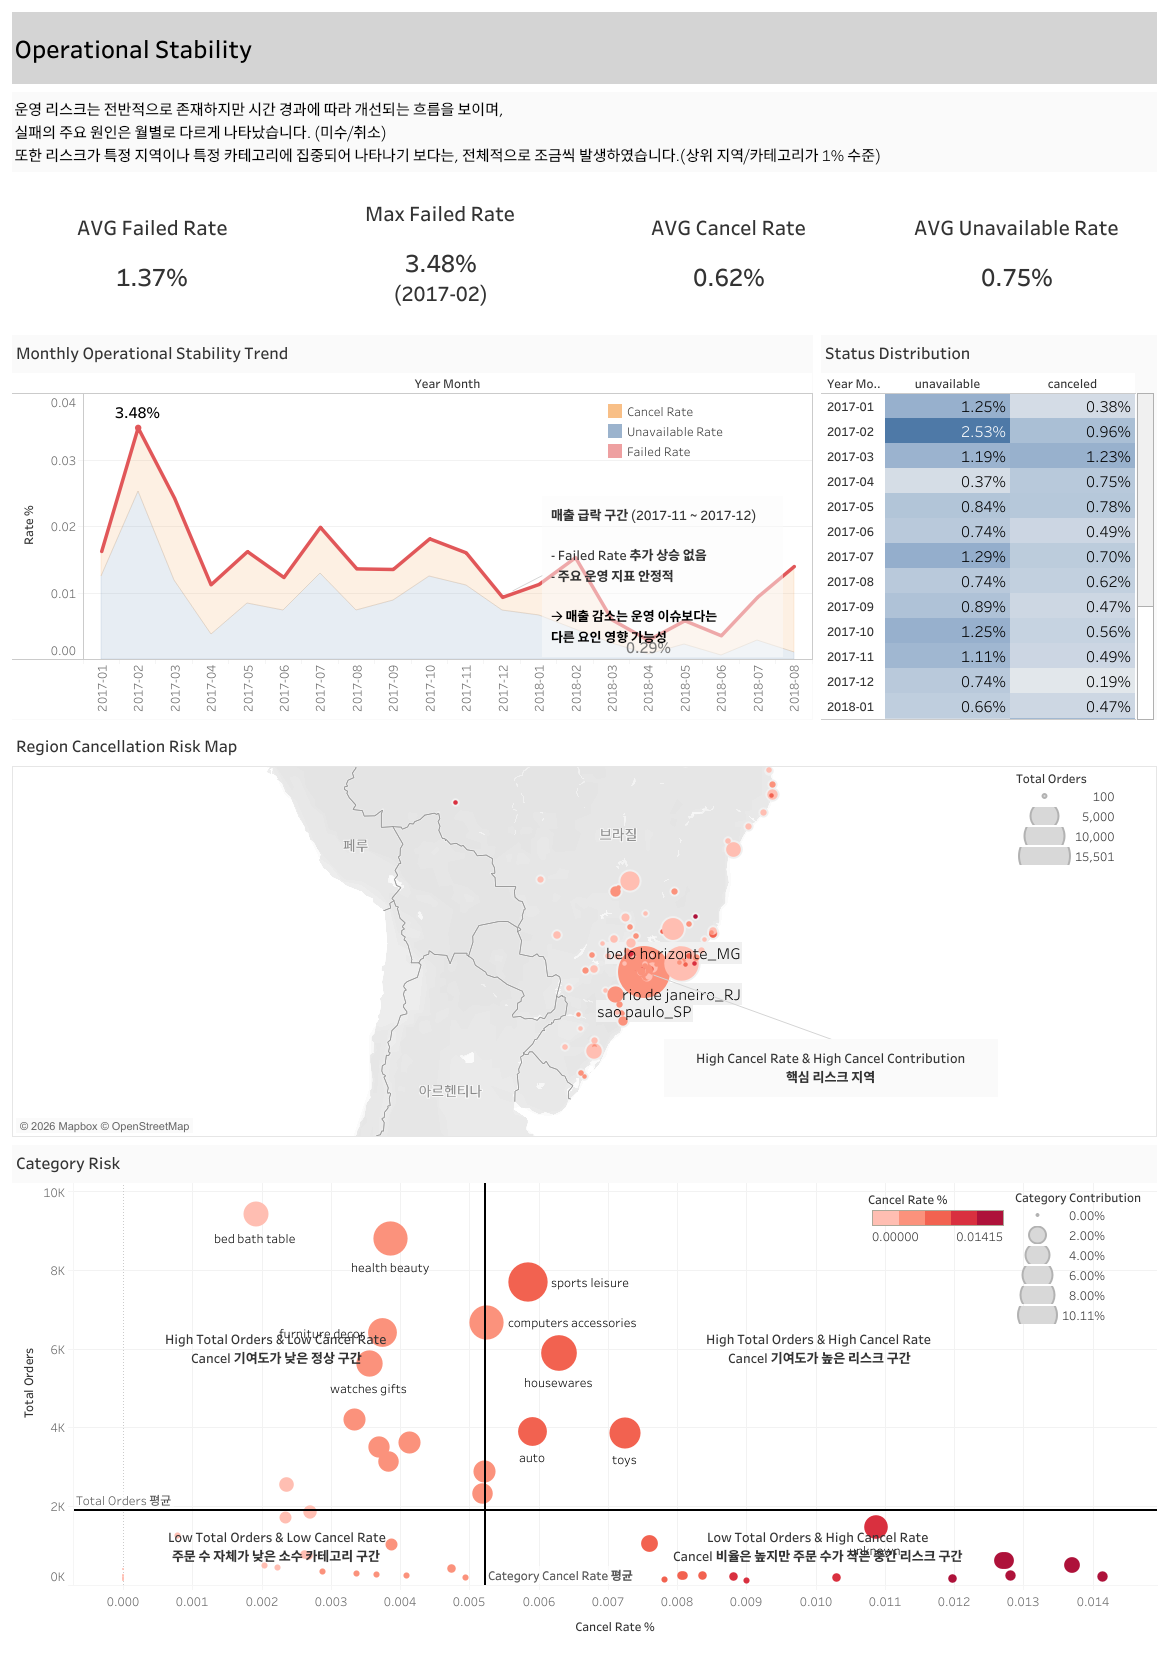

The dashboard page shown, as its layout file describes it:
{"tool":"tableau","page":{"name":"Operational Stability Dashboard","canvas":[1169,1654],"ordinal":3},"visuals":[{"type":"text","box":[8,8,1153,80]},{"type":"text","box":[8,88,1153,88]},{"type":"worksheet","title":"OS_KPI Avg Failed Rate","mark":"Automatic","box":[8,176,289,155]},{"type":"worksheet","title":"OS_KPI Max Failed Rate","mark":"Automatic","box":[297,176,288,155]},{"type":"worksheet","title":"OS_KPI Avg Cancel Rate","mark":"Automatic","box":[585,176,288,155]},{"type":"worksheet","title":"OS_KPI Avg Unavailabled Rate","mark":"Automatic","box":[873,176,288,155]},{"type":"worksheet","title":"OS_Monthly Operational Stability Trend","mark":"Line","rows":["failed_rate"],"cols":["year_month"],"box":[8,331,808.9,393]},{"type":"worksheet","title":"OS_Status Distribution","mark":"Square","rows":["year_month"],"cols":["order_status"],"box":[816.9,331,344,393]},{"type":"legend","title":"OS_Monthly Operational Stability Trend","param":"[federated.1sejpa51rv689l165vqx200g2f1r].[:Measure Names]","box":[605,401,140,78]},{"type":"worksheet","title":"OS_Region Cancellation Risk Map","mark":"Automatic","box":[8,724,1153,417]},{"type":"legend","title":"OS_Region Cancellation Risk Map","param":"[federated.1sejpa51rv689l165vqx200g2f1r].[sum:total_orders:qk]","box":[1015,767,140,98]},{"type":"worksheet","title":"OS_Category Risk (Cancel Rate & Contribution)","mark":"Circle","rows":["total_orders"],"cols":["Calculation_364228669883781125"],"box":[8,1141,1153,505]},{"type":"legend","title":"OS_Category Risk (Cancel Rate & Contribution)","param":"[federated.1sejpa51rv689l165vqx200g2f1r].[usr:Calculation_364228669883781125:qk]","box":[868,1186,140,76]},{"type":"legend","title":"OS_Category Risk (Cancel Rate & Contribution)","param":"[federated.1sejpa51rv689l165vqx200g2f1r].[usr:Calculation_364228669911289864:qk:","box":[1014,1186,140,156]}]}

Visuals, with their boxes in screenshot pixels (x1, y1, x2, y2), scaled from the page's 1169x1654 canvas onto the 1168x1653 screenshot:
text: (8, 8, 1160, 88)
text: (8, 88, 1160, 176)
"OS_KPI Avg Failed Rate" worksheet: (8, 176, 297, 331)
"OS_KPI Max Failed Rate" worksheet: (297, 176, 584, 331)
"OS_KPI Avg Cancel Rate" worksheet: (584, 176, 872, 331)
"OS_KPI Avg Unavailabled Rate" worksheet: (872, 176, 1160, 331)
"OS_Monthly Operational Stability Trend" worksheet (Line marks): (8, 331, 816, 724)
"OS_Status Distribution" worksheet (Square marks): (816, 331, 1160, 724)
"OS_Monthly Operational Stability Trend" legend: (604, 401, 744, 479)
"OS_Region Cancellation Risk Map" worksheet: (8, 724, 1160, 1140)
"OS_Region Cancellation Risk Map" legend: (1014, 767, 1154, 864)
"OS_Category Risk (Cancel Rate & Contribution)" worksheet (Circle marks): (8, 1140, 1160, 1645)
"OS_Category Risk (Cancel Rate & Contribution)" legend: (867, 1185, 1007, 1261)
"OS_Category Risk (Cancel Rate & Contribution)" legend: (1013, 1185, 1153, 1341)
